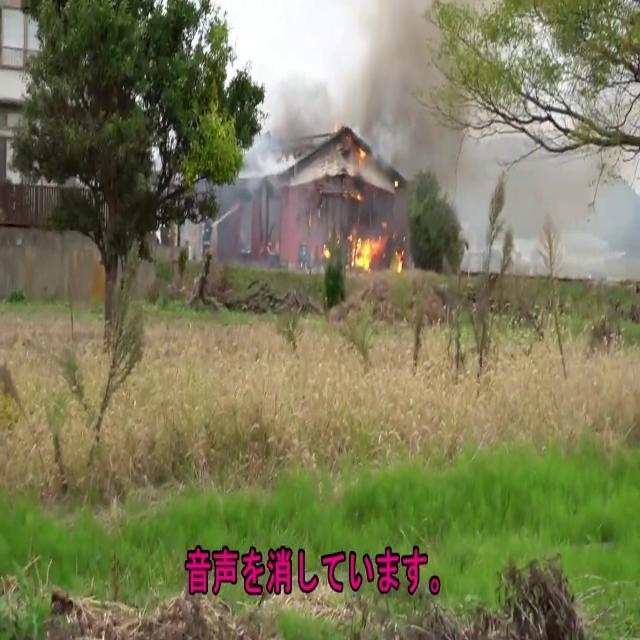Fire: (344, 220, 390, 276)
Smoke: (320, 0, 474, 180)
